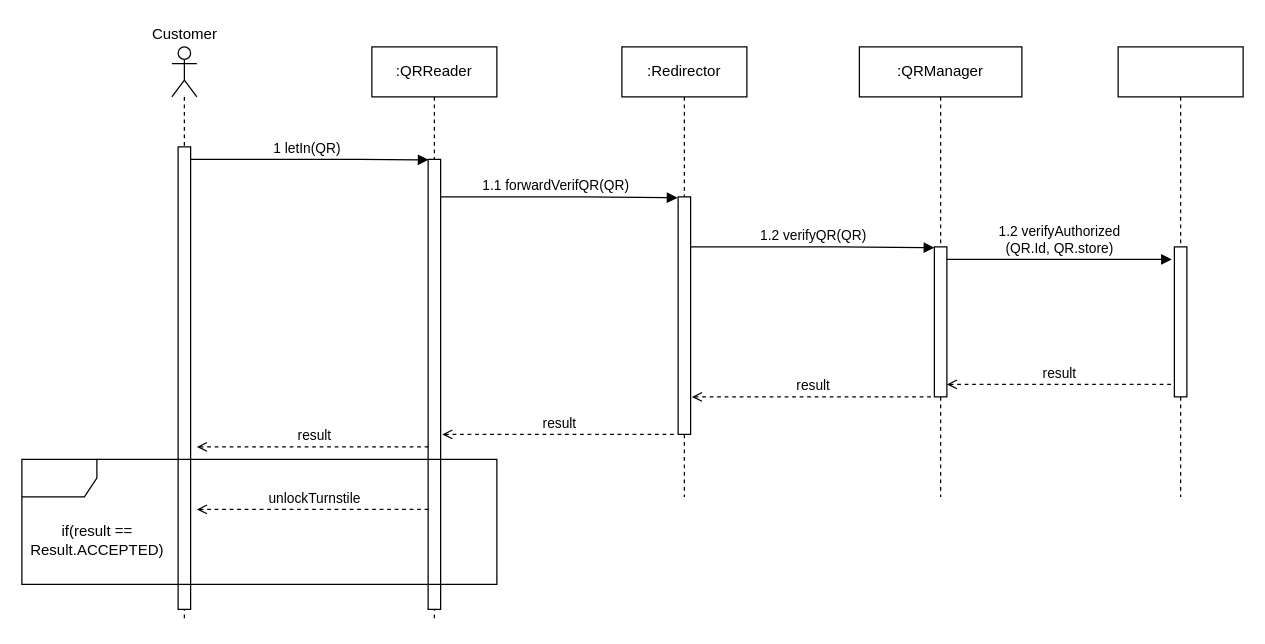
The diagram is 1265 pixels wide and 644 high, and some of its shapes have lost their labels. The shapes that lost their labels are listed below. From the top down, each one's centre as x and y in pixels, then its label:
At [1180,271]: ":QueueManager".
At [259,521]: "Opt".
